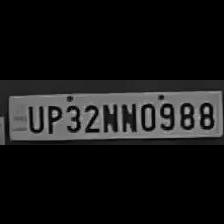0: (136, 98, 156, 130)
2: (81, 101, 99, 133)
3: (62, 101, 80, 133)
8: (176, 98, 196, 130), (195, 97, 215, 129)
9: (157, 98, 175, 130)
N: (100, 100, 118, 132), (119, 99, 137, 131)
P: (44, 102, 62, 132)
U: (23, 100, 43, 132)
